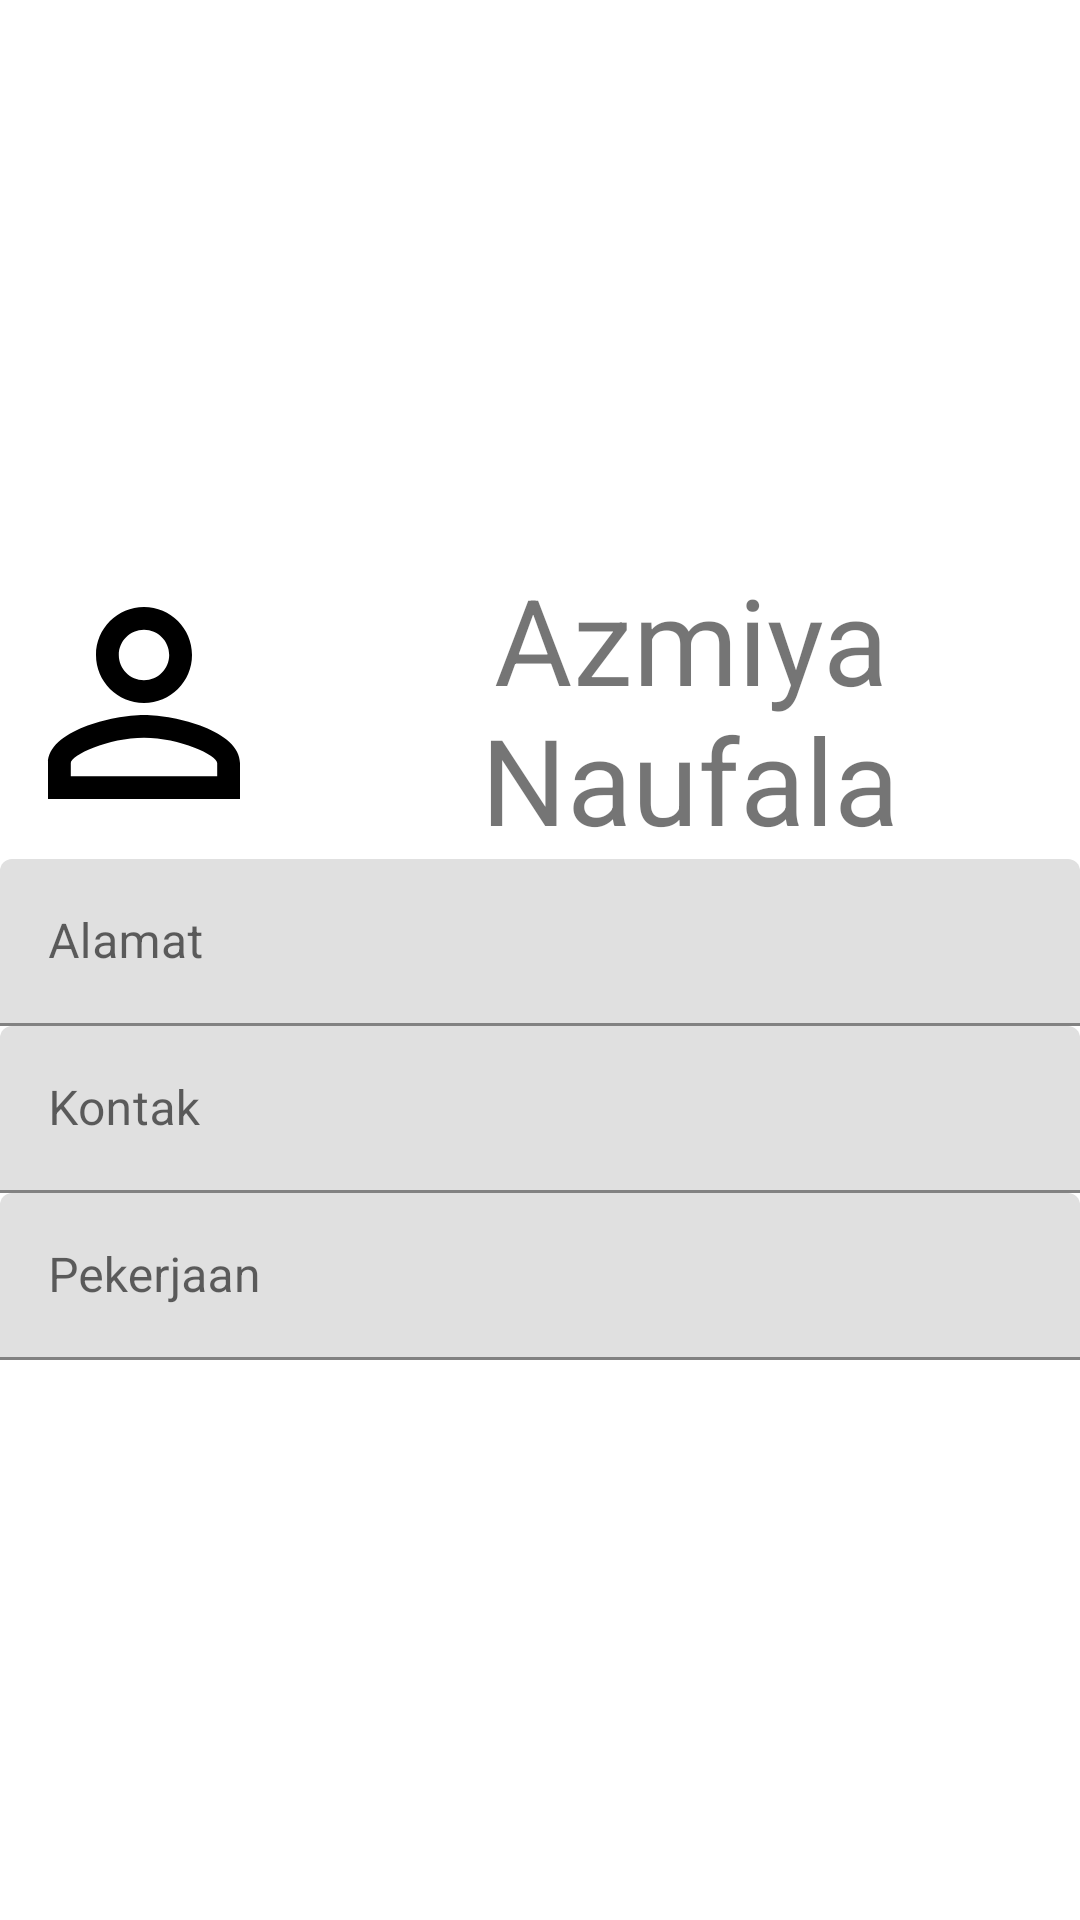

Named icons in this screenshot (1080px×1920px) and their bounding boxes, (x1, y1, x2, y2):
person: (48, 607, 240, 799)
